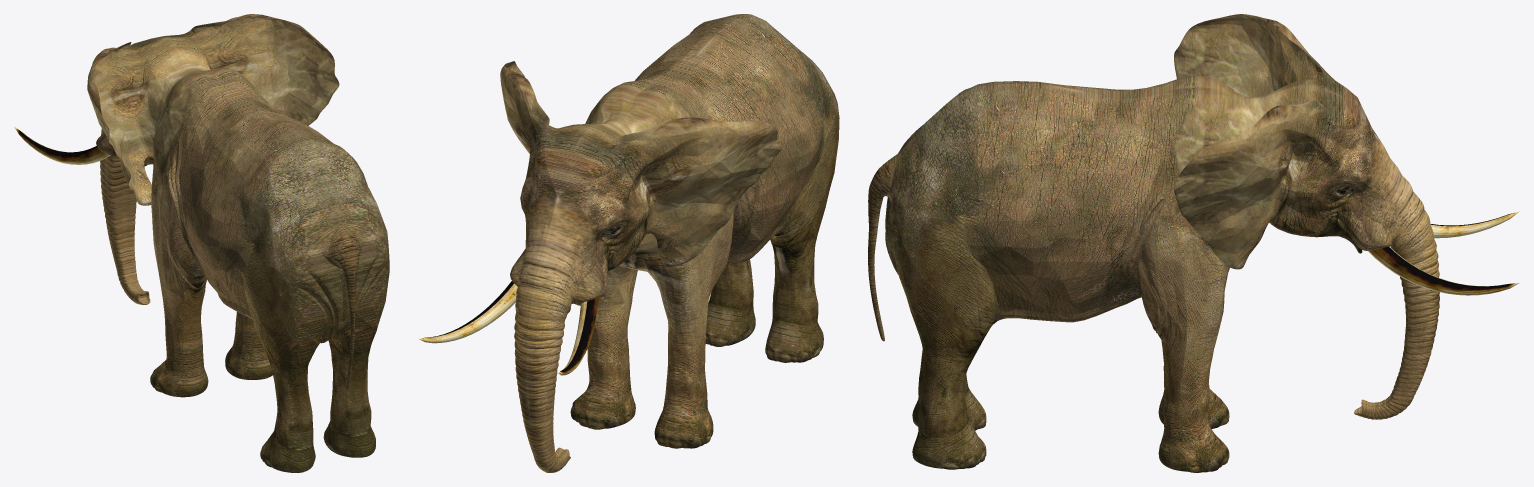
Rendered from elephant.obj.
3 views of the same model, side by side, from view 1: azimuth 30°, elevation 25°; view 2: azimuth 150°, elevation 25°; view 3: azimuth 270°, elevation 25° (orthographic). The views are drawn at different scales.
Parts seen in each view (by area): view 1: MainEleM, EleTuskL; view 2: MainEleM, EleTuskR, EleTuskL; view 3: MainEleM, EleTuskR, EleTuskL.
Part boxes in pixels (bbox=[...]): MainEleM: bbox=[87, 14, 389, 472]; EleTuskL: bbox=[14, 127, 110, 164]; MainEleM: bbox=[500, 14, 839, 472]; EleTuskR: bbox=[419, 281, 517, 343]; EleTuskL: bbox=[558, 298, 599, 375]; MainEleM: bbox=[868, 14, 1439, 472]; EleTuskR: bbox=[1368, 246, 1518, 295]; EleTuskL: bbox=[1430, 211, 1519, 238].
Bounding box in the file's own units: 546 × 717 × 1132.
Materials: 3 (2 with a texture image).
